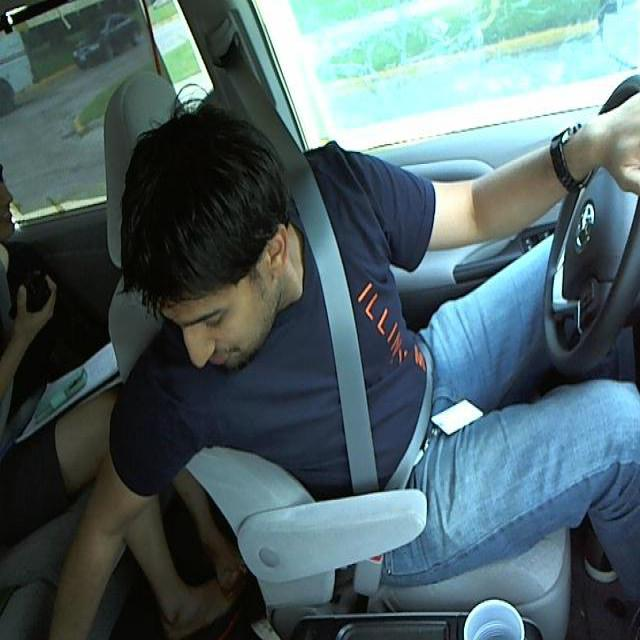seatbelt: (280, 173, 449, 490)
